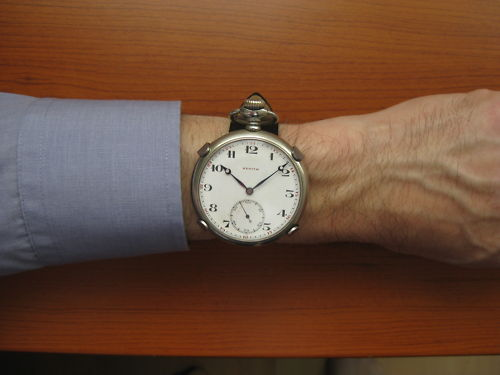clock: (199, 137, 303, 242)
